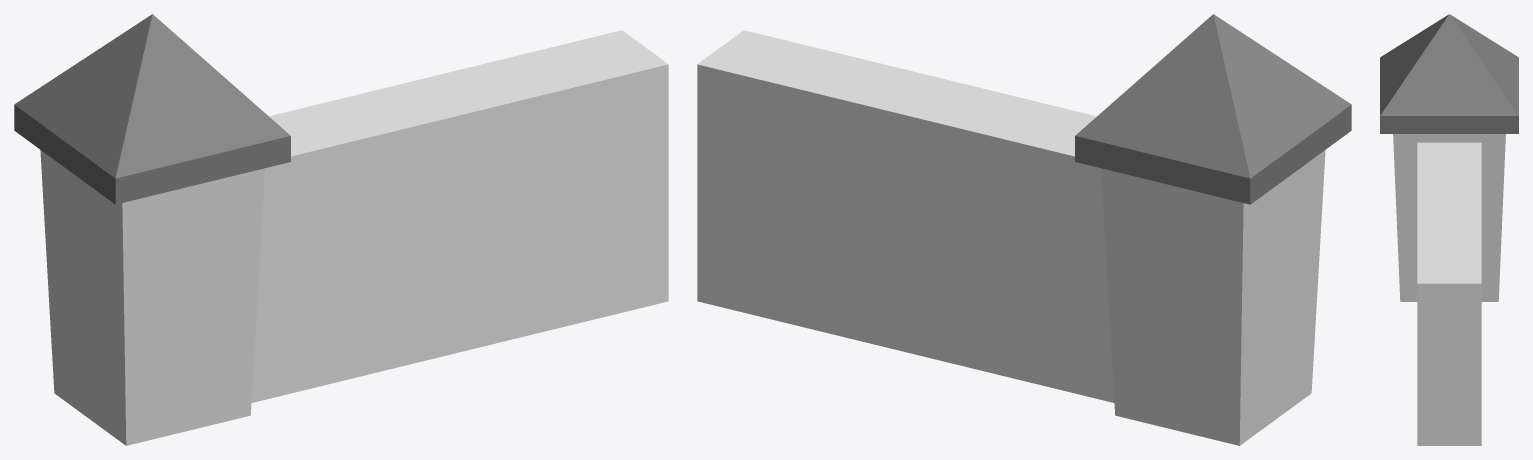
File: Fence 7.fbx
The picture shows the model from 3 angles, left to right: view 1: azimuth 30°, elevation 25°; view 2: azimuth 150°, elevation 25°; view 3: azimuth 270°, elevation 25°; orthographic projection. The views are drawn at different scales.
Parts seen in each view (by area): view 1: Fence 7; view 2: Fence 7; view 3: Fence 7.
Boxes of the visible parts, x1=… form: Fence 7: x1=14, y1=14, x2=668, y2=445; Fence 7: x1=697, y1=14, x2=1351, y2=445; Fence 7: x1=1380, y1=14, x2=1518, y2=445.
Bounding box in the file's own units: 345 × 222 × 104.
